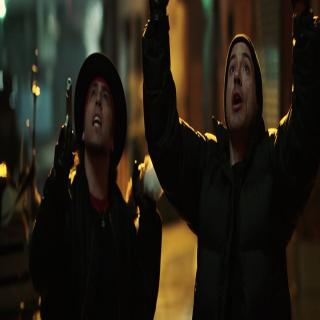gun: (59, 76, 75, 179)
